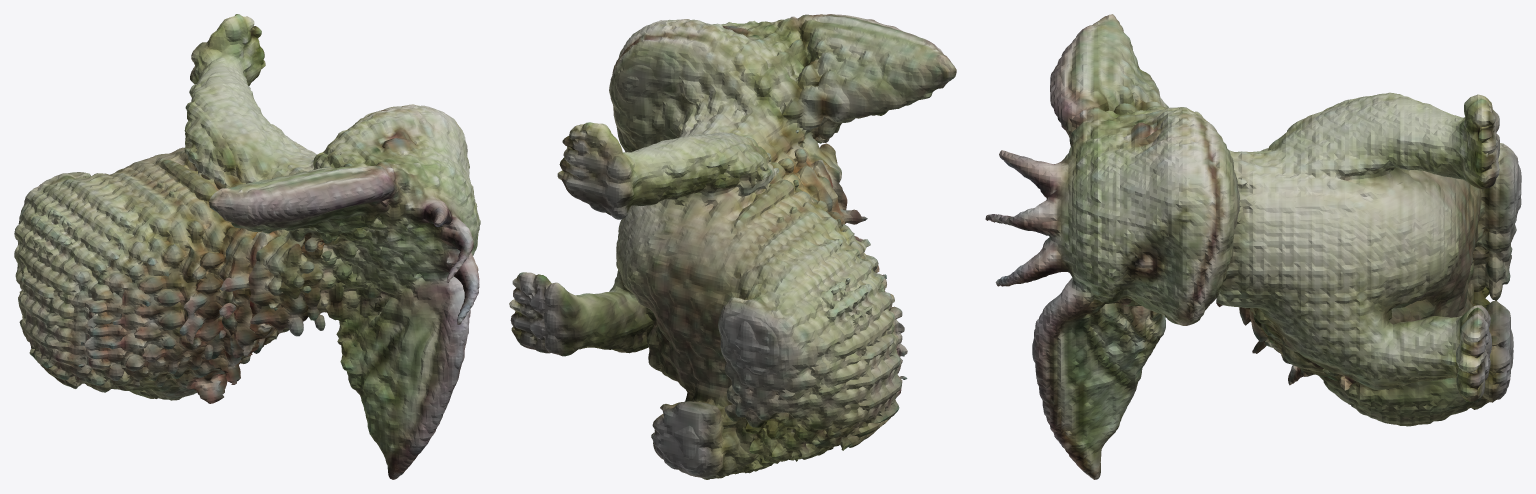
The picture shows the model from 3 angles, left to right: view 1: azimuth 30°, elevation 25°; view 2: azimuth 150°, elevation 25°; view 3: azimuth 270°, elevation 25°; orthographic projection. The views are drawn at different scales.
Parts seen in each view (by area): view 1: geometry_0; view 2: geometry_0; view 3: geometry_0.
Boxes of the visible parts, x1=… form: geometry_0: x1=14, y1=14, x2=480, y2=479; geometry_0: x1=509, y1=14, x2=956, y2=479; geometry_0: x1=985, y1=14, x2=1521, y2=479.
Size of the model in its own units: 0.8426 by 0.7899 by 0.9918.
